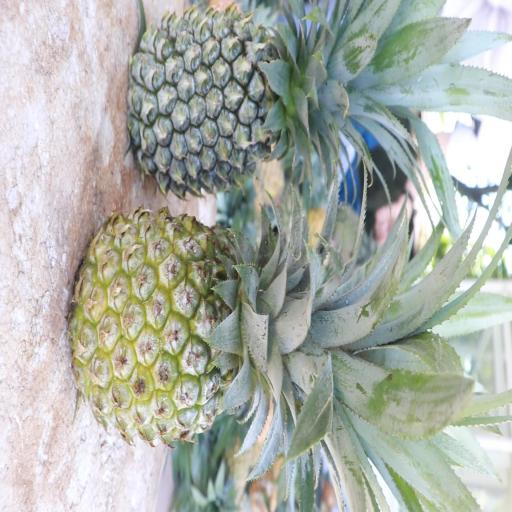------------------------------: (63, 208, 356, 454)
